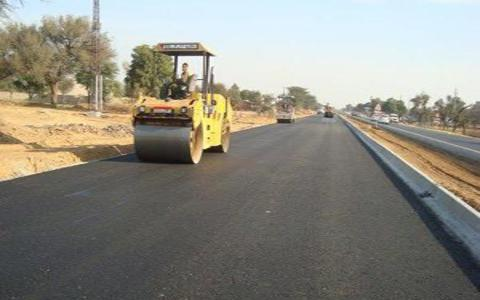Proper road: (26, 172, 409, 294), (252, 130, 358, 292)
